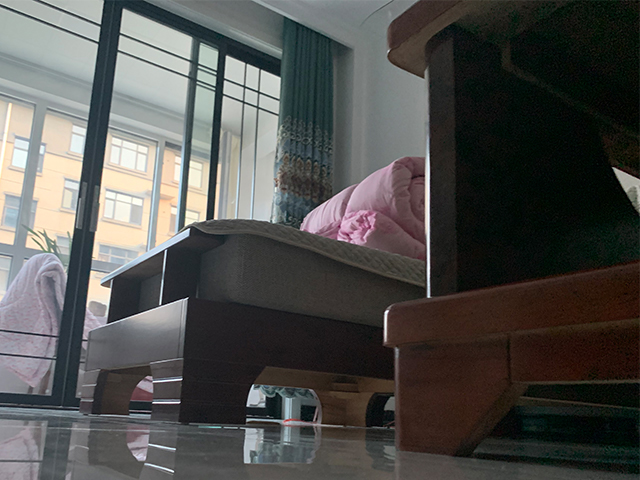curtain: (275, 17, 332, 221)
sofa: (76, 218, 427, 427)
